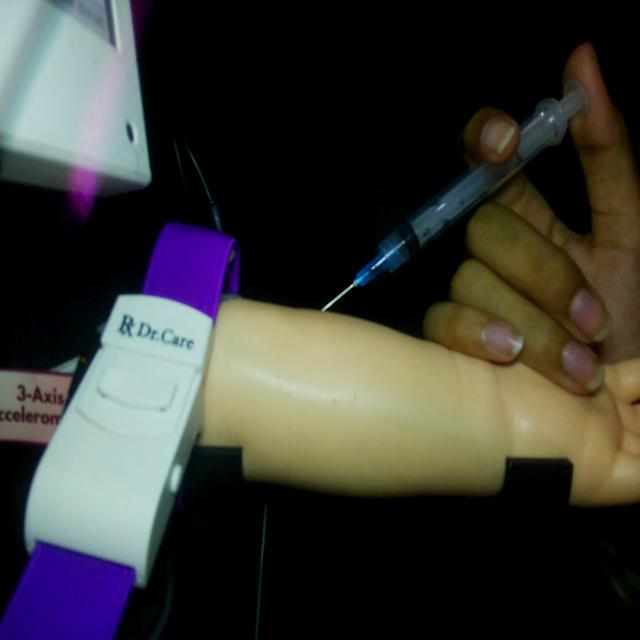28 degrees: (319, 77, 589, 314)
